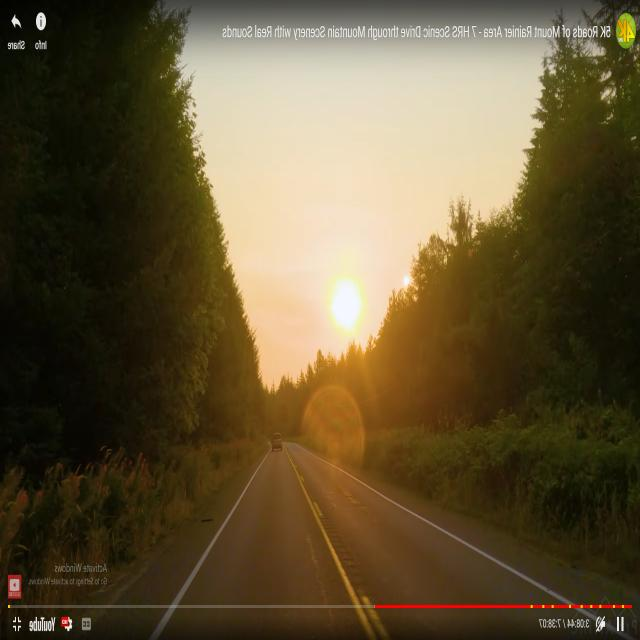sun: (328, 270, 366, 336)
